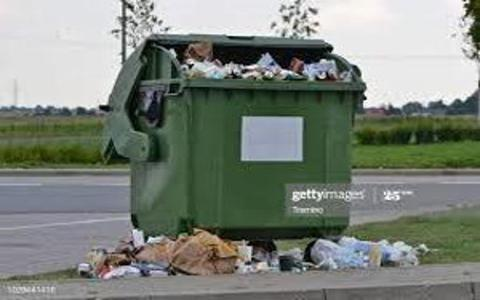overflowing garbage: (95, 22, 365, 263)
